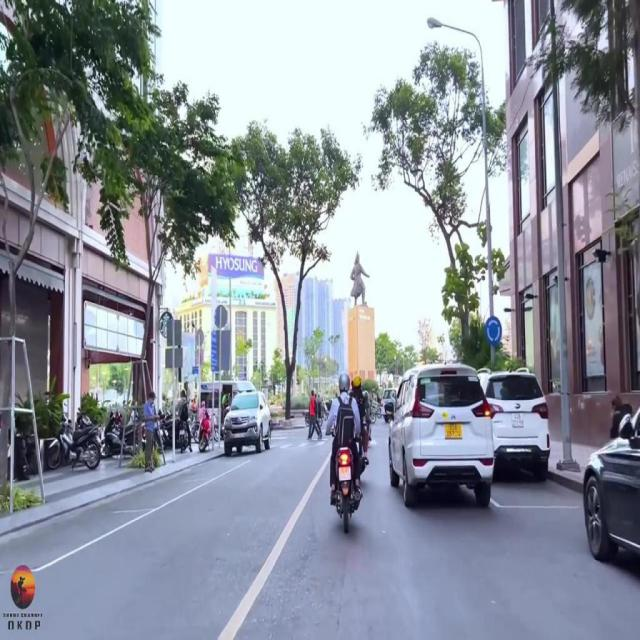noi_giao_nhau_chay_theo_vong: (484, 314, 502, 346)
